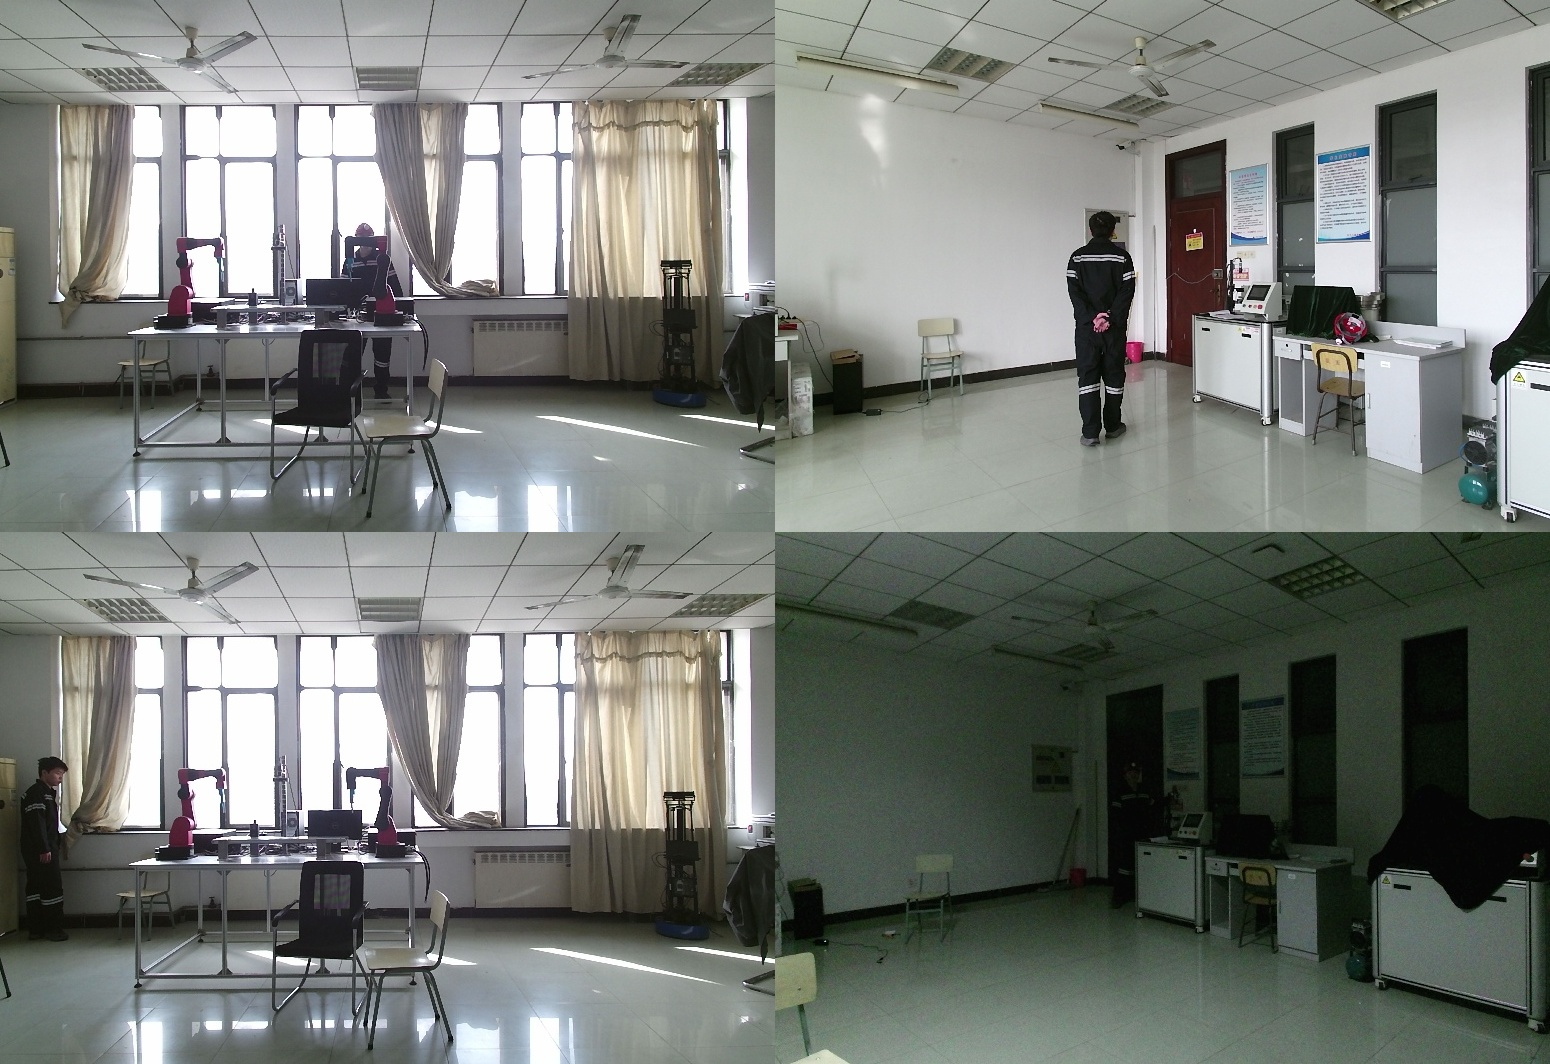person: (1062, 211, 1144, 450), (11, 760, 69, 940), (343, 224, 403, 398), (1106, 763, 1168, 910)
